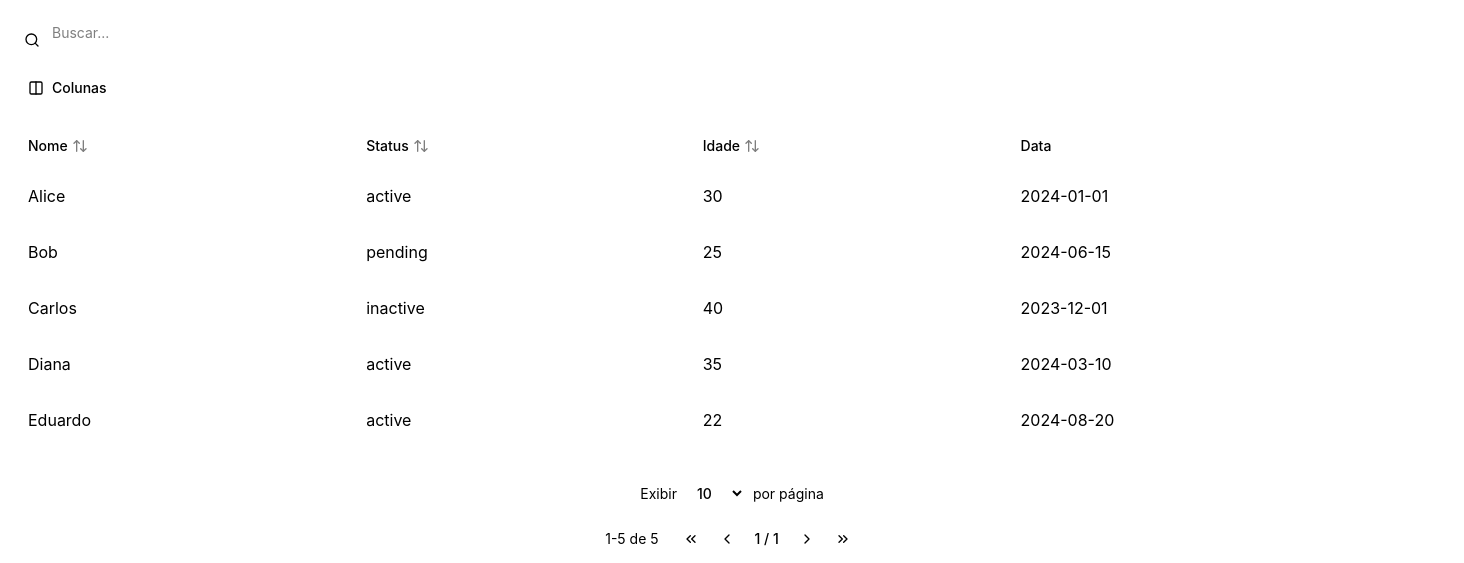
it: DataTable › search › clears search when clear button clicked
Type "Alice" into the field with placeholder "Buscar...".
click(732, 32); type("Alice")  # box [12,12,1452,52]
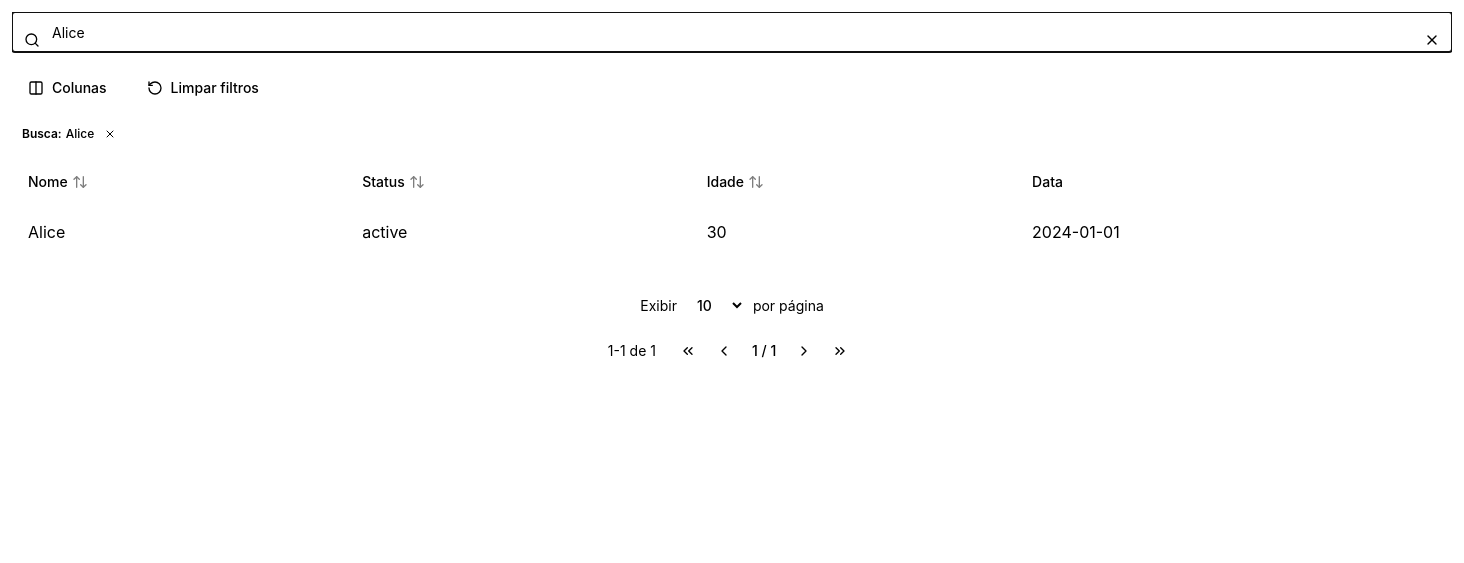
Expected: the text "Bob" is gone
Click the button named "Limpar busca".
click(1432, 40)  # box [1424,32,1440,48]
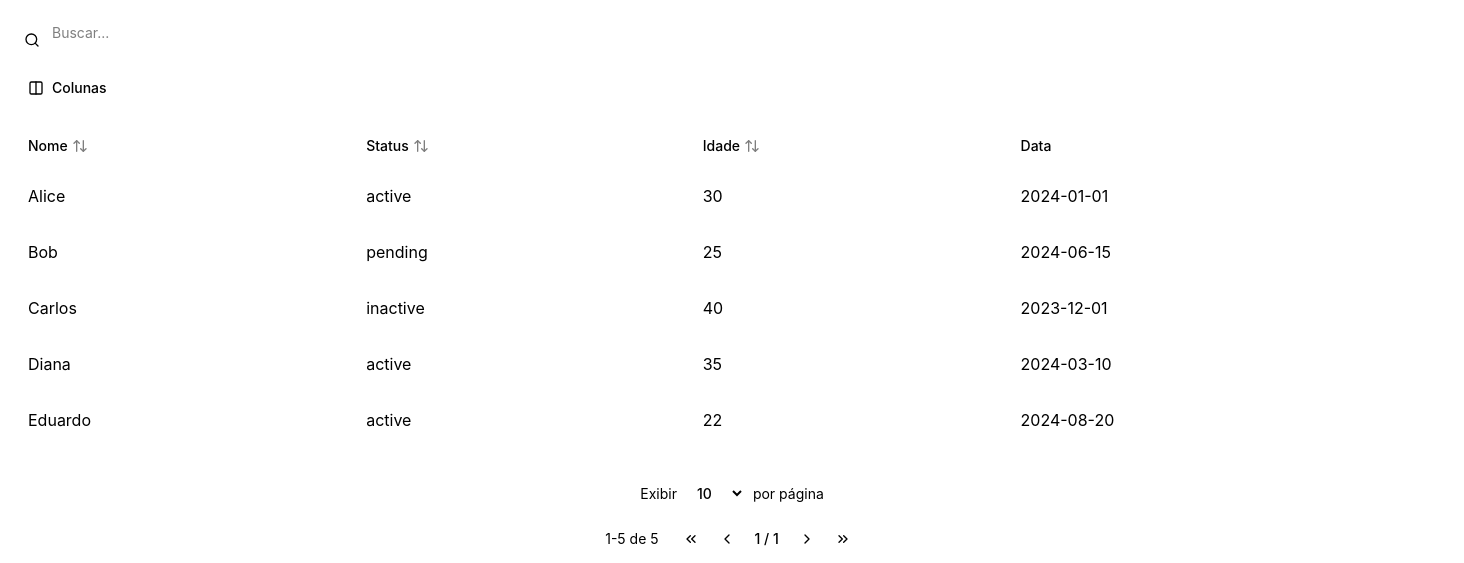
Expected: the text "Bob" is shown, [12,224,350,280]
